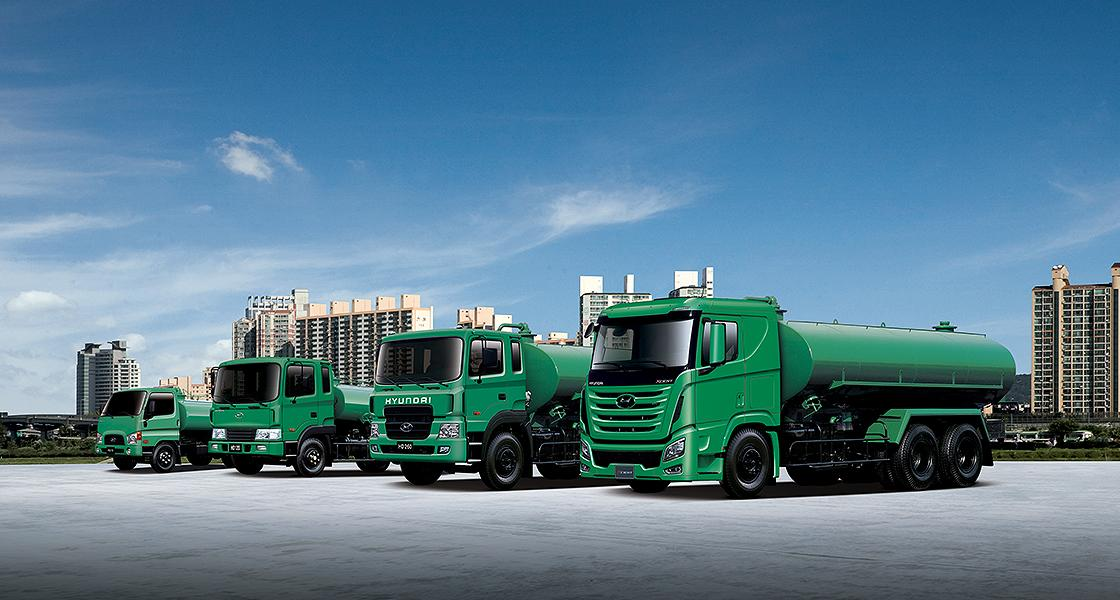truck: (576, 294, 1017, 498), (368, 327, 600, 488), (206, 357, 391, 476), (96, 387, 213, 473)
